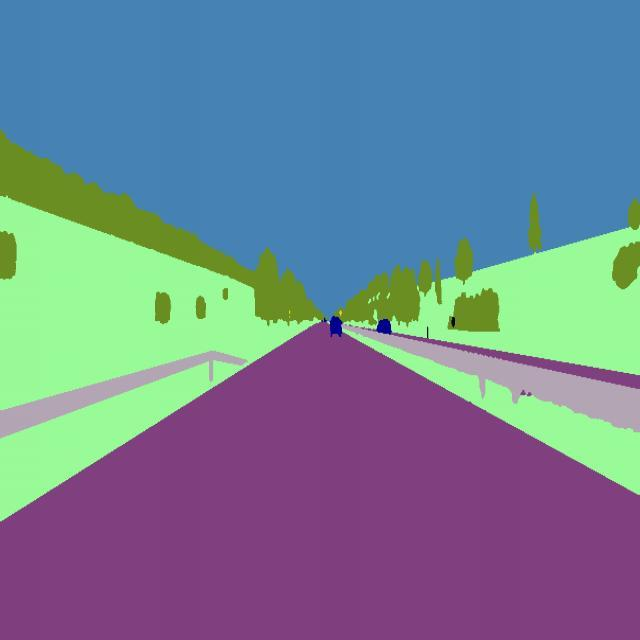safe: (372, 312, 397, 340), (324, 310, 344, 342)
